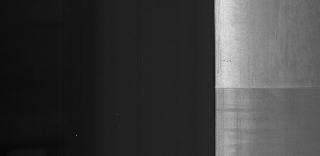welding line: (217, 84, 317, 92)
